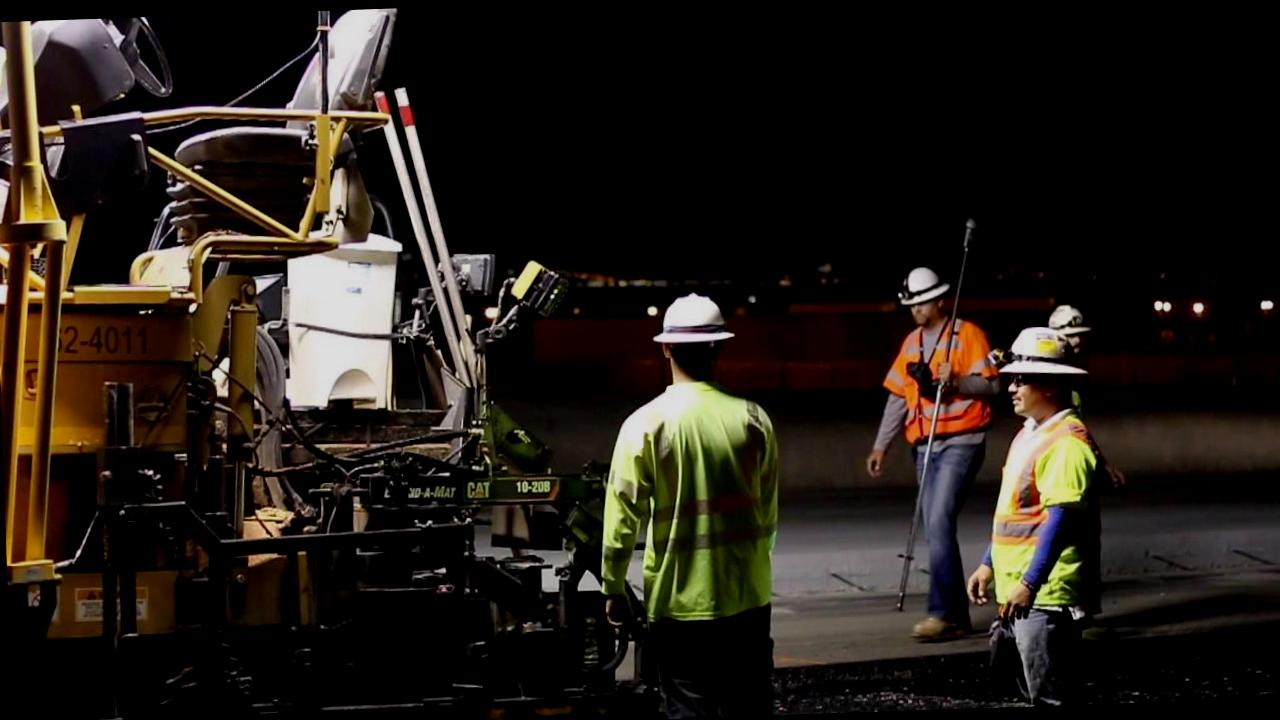helmet: (993, 324, 1096, 391), (648, 288, 742, 356), (888, 258, 952, 307)
person: (586, 280, 799, 720), (853, 256, 1010, 646), (963, 326, 1118, 708)
